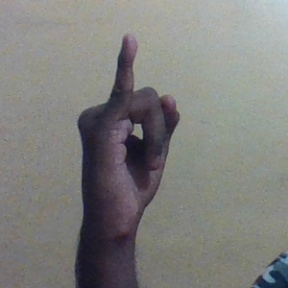I: (79, 30, 185, 232)
